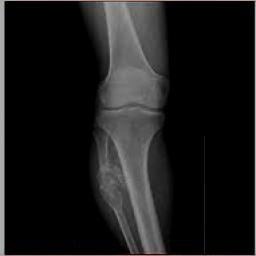cancer: (97, 160, 128, 214)
